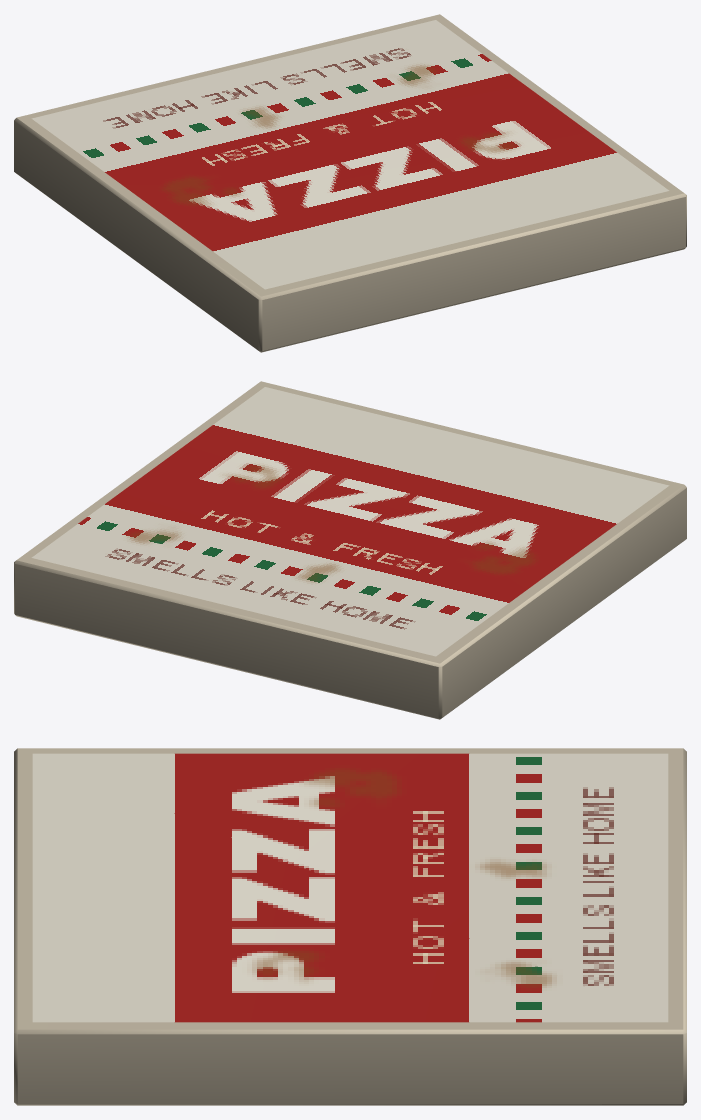
Rendered from pizza_box.glb.
3 renders of one model, top to bottom at view 1: azimuth 30°, elevation 25°; view 2: azimuth 150°, elevation 25°; view 3: azimuth 270°, elevation 25°, orthographic. The views are drawn at different scales.
Parts seen in each view (by area): view 1: panels, body; view 2: panels, body; view 3: panels, body.
Part boxes in pixels (x1=…): panels: x1=31, y1=20, x2=669, y2=289; body: x1=14, y1=14, x2=686, y2=352; panels: x1=31, y1=387, x2=669, y2=656; body: x1=14, y1=381, x2=686, y2=719; panels: x1=32, y1=753, x2=668, y2=1022; body: x1=14, y1=748, x2=686, y2=1105.
Size of the model in its own units: 0.36 by 0.0456 by 0.36.
Materials: 2 (1 with a texture image).
